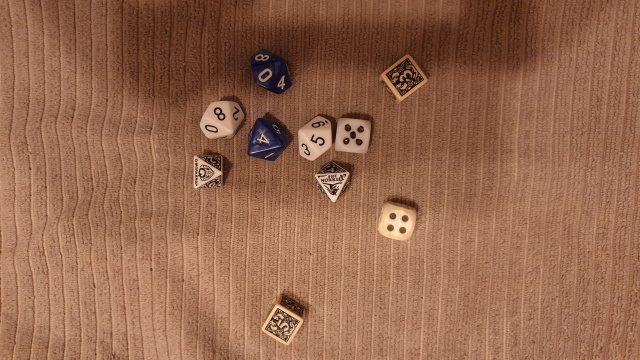d10-10: (244, 43, 294, 97)
d10-4: (242, 111, 287, 169)
d10-5: (292, 111, 333, 164)
d10-8: (192, 96, 245, 144)
d6-4: (372, 197, 418, 244)
d6-5: (333, 113, 372, 156)
d6p-3: (378, 51, 430, 103)
d6p-5: (255, 289, 310, 347)
d8p-1: (309, 156, 355, 204)
d8p-8: (188, 147, 228, 193)
